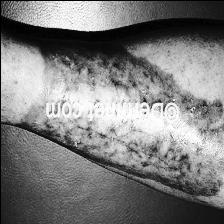Unclassified: (31, 36, 181, 96), (115, 126, 221, 188), (66, 124, 114, 160), (186, 92, 222, 119)
